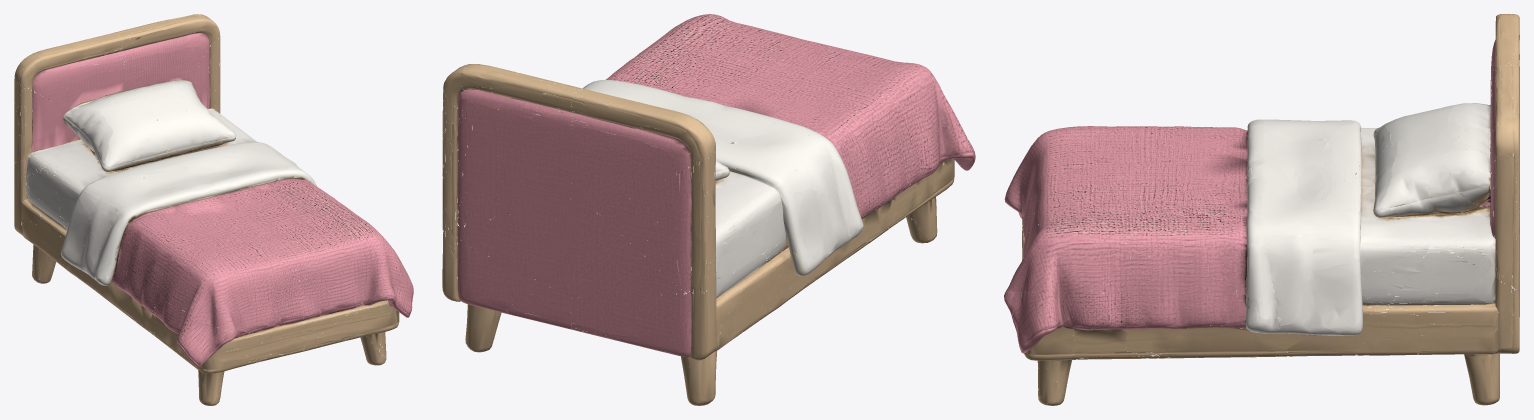
The model's file is bed.glb.
The picture shows the model from 3 angles, left to right: view 1: azimuth 30°, elevation 25°; view 2: azimuth 150°, elevation 25°; view 3: azimuth 270°, elevation 25°; orthographic projection. The views are drawn at different scales.
Parts seen in each view (by area): view 1: bed; view 2: bed; view 3: bed.
Boxes of the visible parts, x1,y1,x2,y2 form: bed: (14, 14, 413, 405); bed: (442, 14, 975, 405); bed: (1004, 14, 1519, 405).
Bounding box in the file's own units: 0.6665 × 0.5972 × 0.9799.
Materials: 1 (1 with a texture image).
